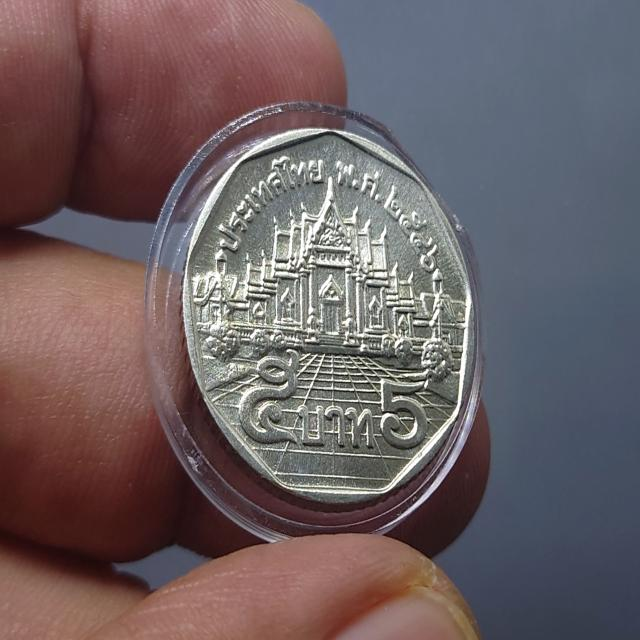5 Bath: (180, 126, 481, 516)
